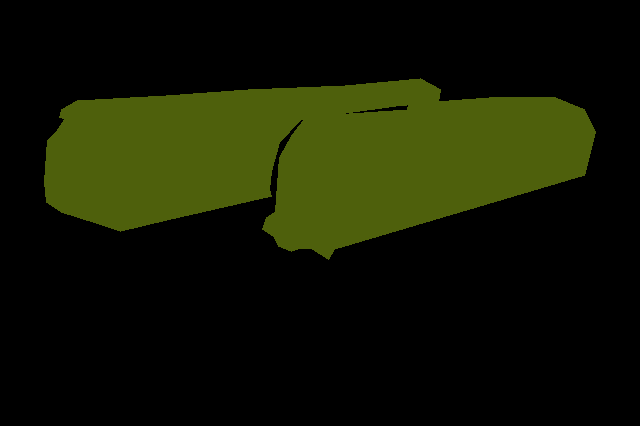Train: (44, 78, 441, 232), (262, 97, 596, 259)
